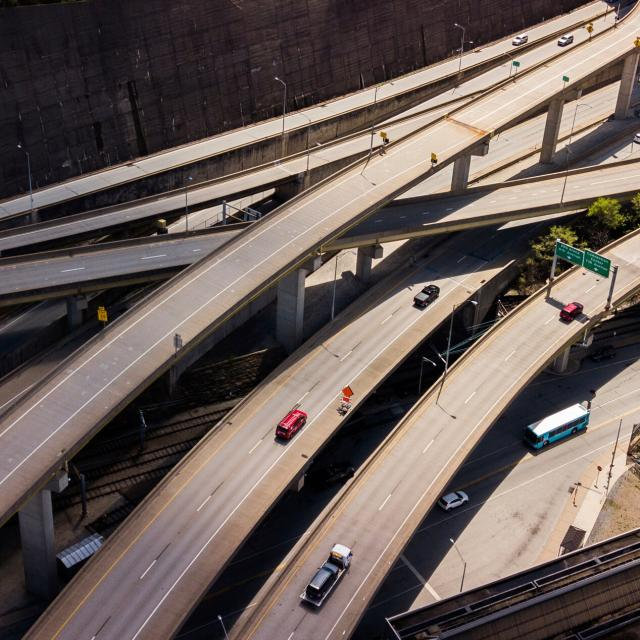Clean road: (0, 192, 640, 640)
